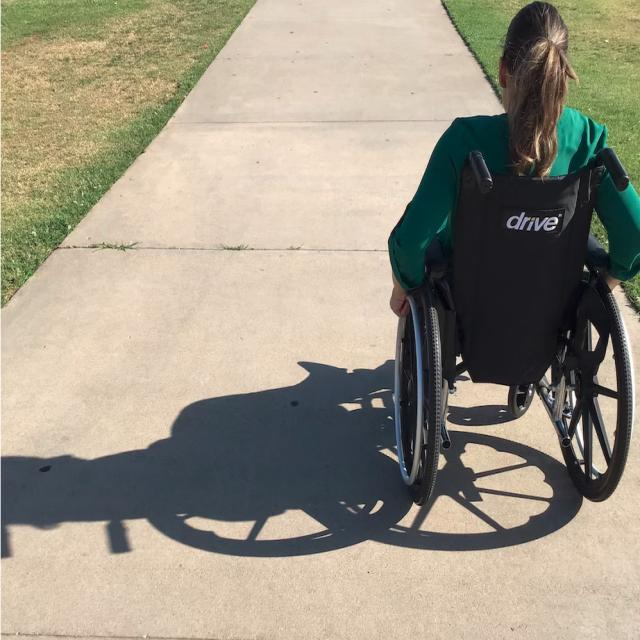wheelchairs: (397, 146, 640, 504)
